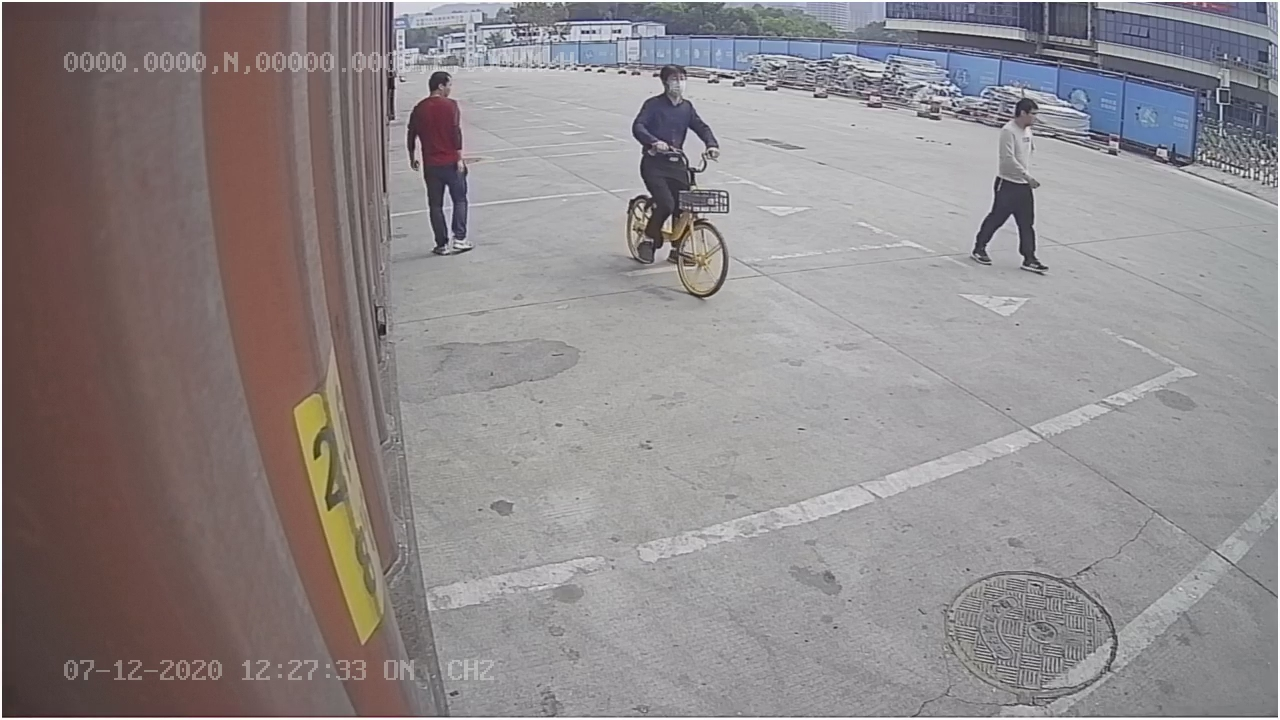person: (399, 69, 481, 262)
